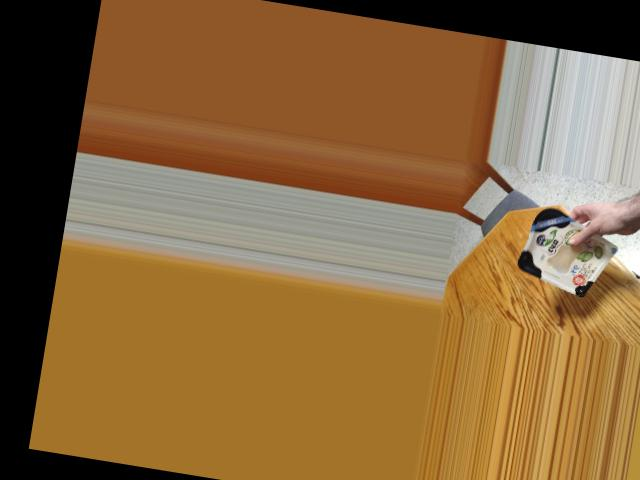cheese: (512, 201, 608, 297)
